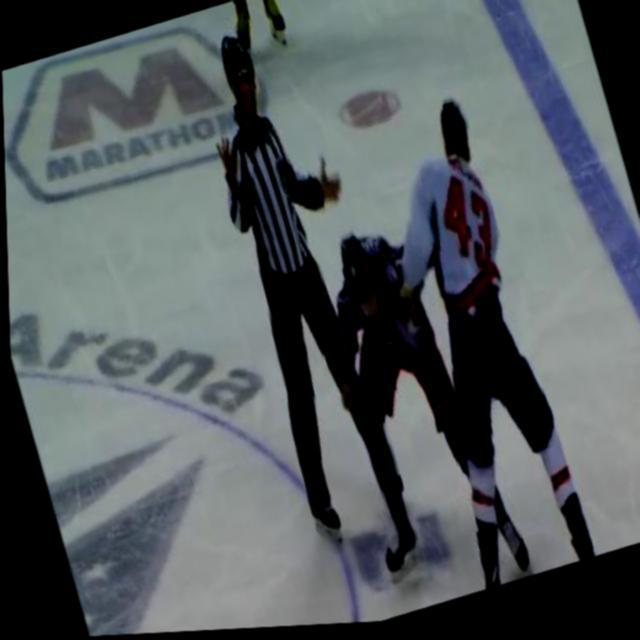fight: (272, 94, 593, 621)
